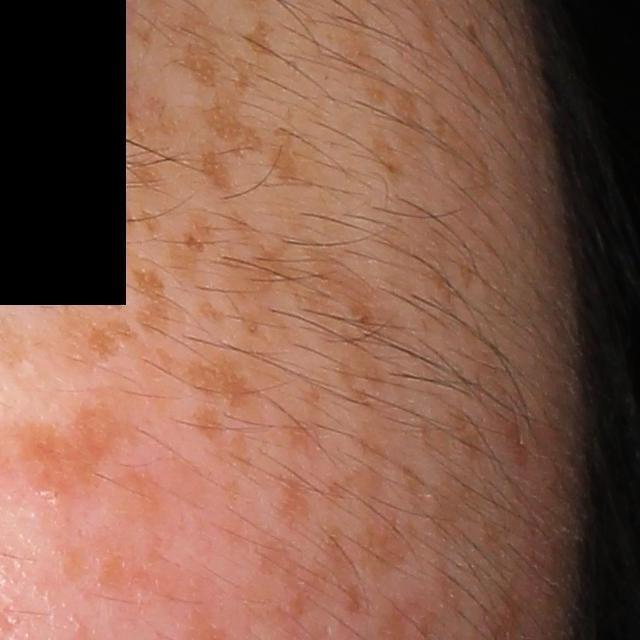melasma: (197, 206, 419, 428), (53, 189, 221, 347), (135, 29, 266, 165), (321, 421, 419, 586), (241, 525, 368, 635), (398, 461, 514, 580), (337, 27, 426, 156), (56, 295, 144, 384), (152, 347, 256, 415), (431, 107, 497, 201), (419, 403, 492, 468), (265, 115, 325, 190), (284, 384, 326, 470), (364, 121, 409, 196), (265, 472, 311, 533), (212, 425, 255, 483), (196, 149, 237, 203), (433, 555, 468, 618), (238, 19, 278, 60), (191, 403, 224, 445)
